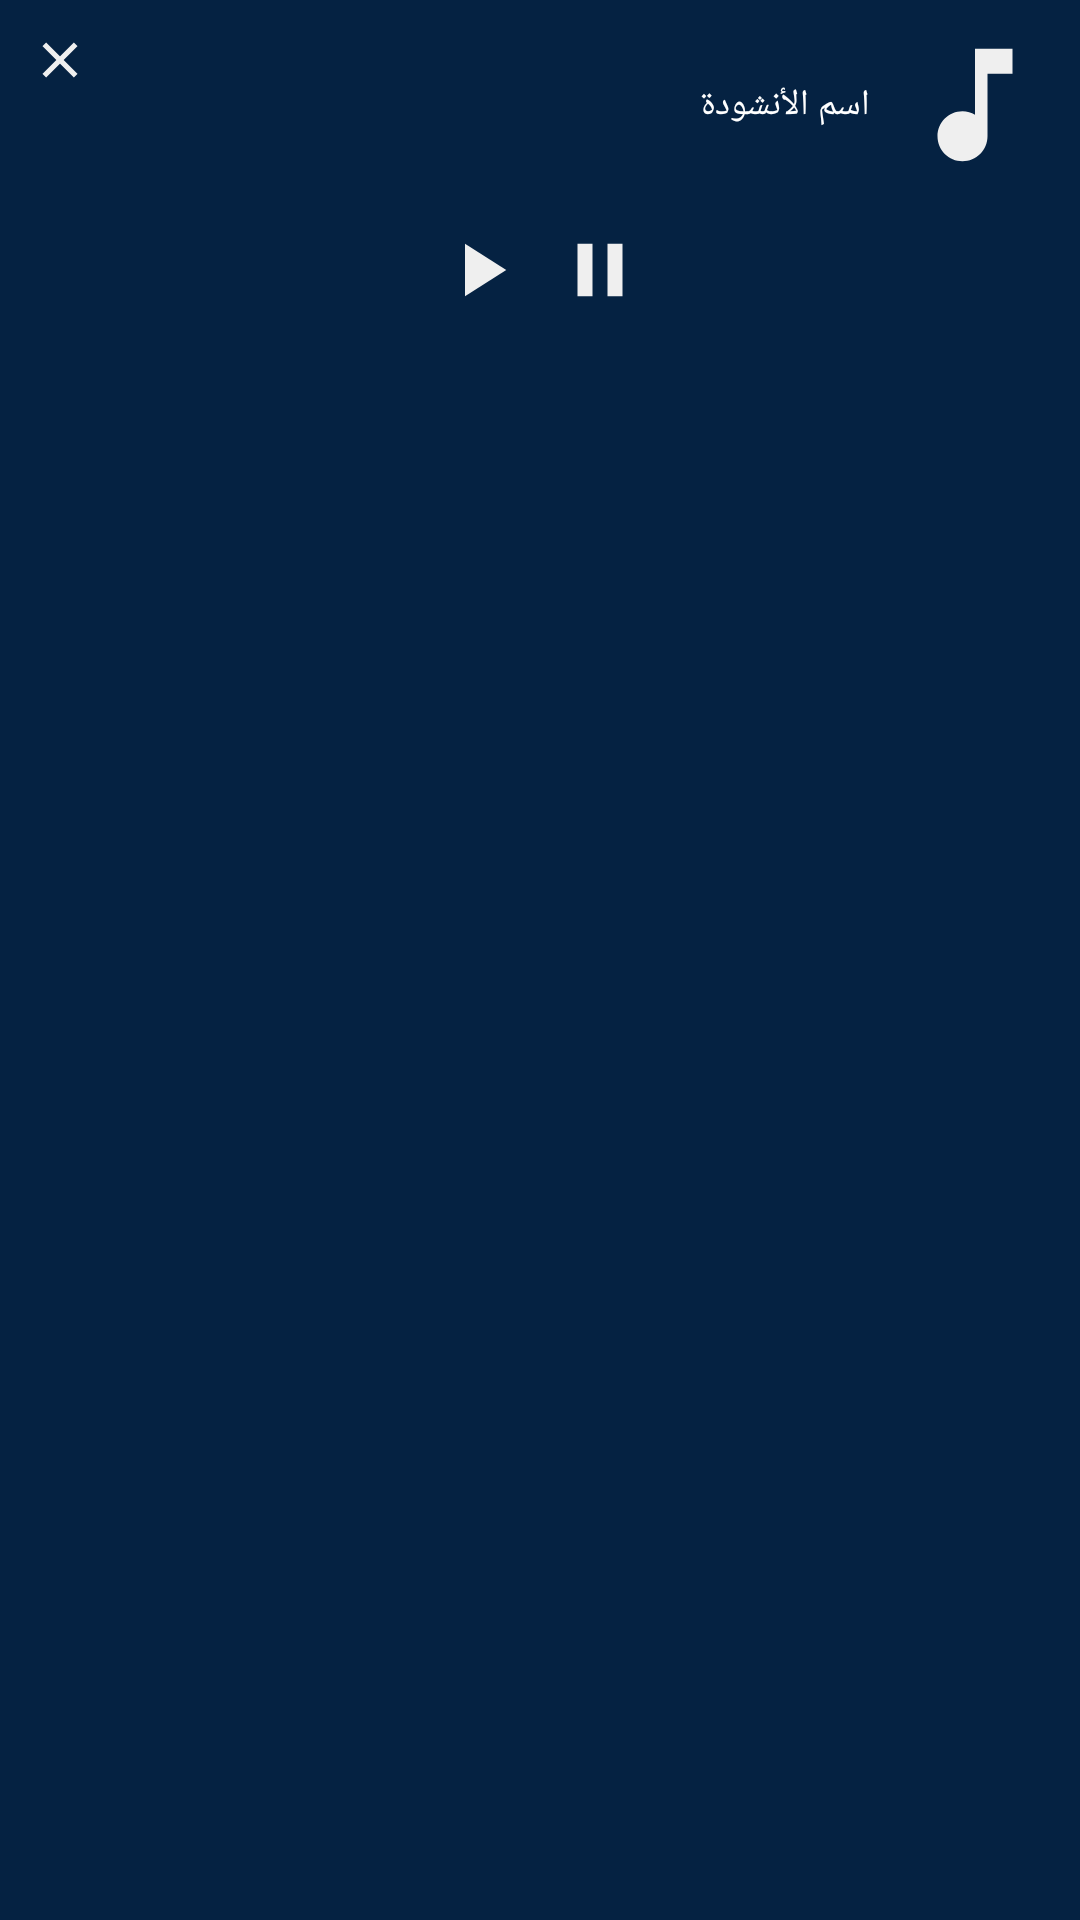

Where icons sit on this 1080*1920 app screen, as box(x1, y1, x2, y2):
close: box(42, 42, 78, 78)
music: box(937, 48, 1013, 162)
pause: box(577, 243, 623, 297)
play: box(465, 244, 506, 296)
